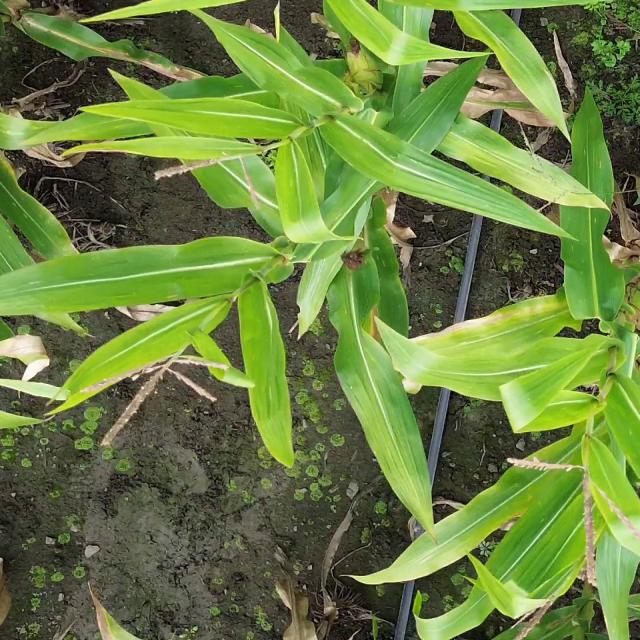gray-leaf-spot: (571, 154, 613, 262), (301, 262, 335, 316)
northern-leaf-blight: (446, 307, 582, 346), (29, 13, 118, 62), (545, 604, 596, 637)
southern-leaf-blight: (10, 192, 72, 253)
